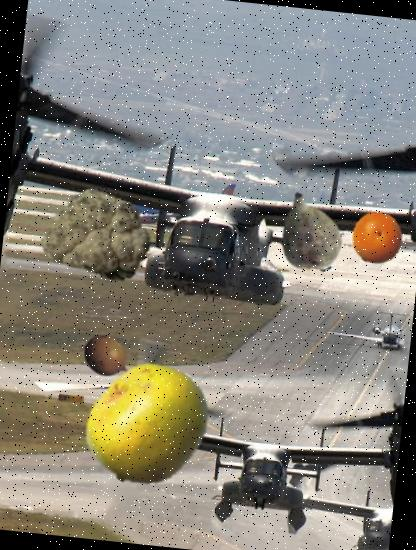Beetroot: (257, 178, 359, 280)
Cauliflower: (37, 173, 159, 295)
Granadilla: (79, 330, 137, 388)
Grapefruit: (348, 210, 405, 267)
Pomelo: (78, 354, 218, 494)
